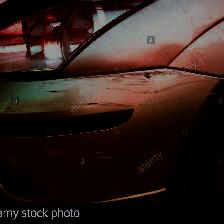bumper_scratch: (34, 66, 223, 132)
